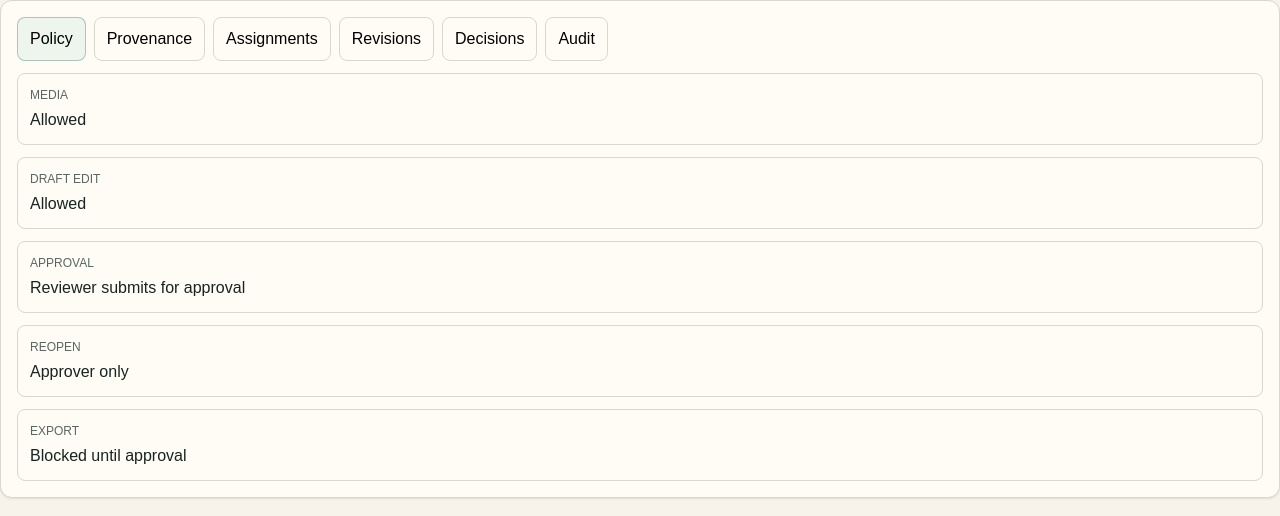
Test: GovernanceDrawer › renders one governance decision row per changes-requested incident
This screenshot has width=1280, height=516.
Click the tab "Decisions": (490,39) x1=442 y1=17 x2=537 y2=61
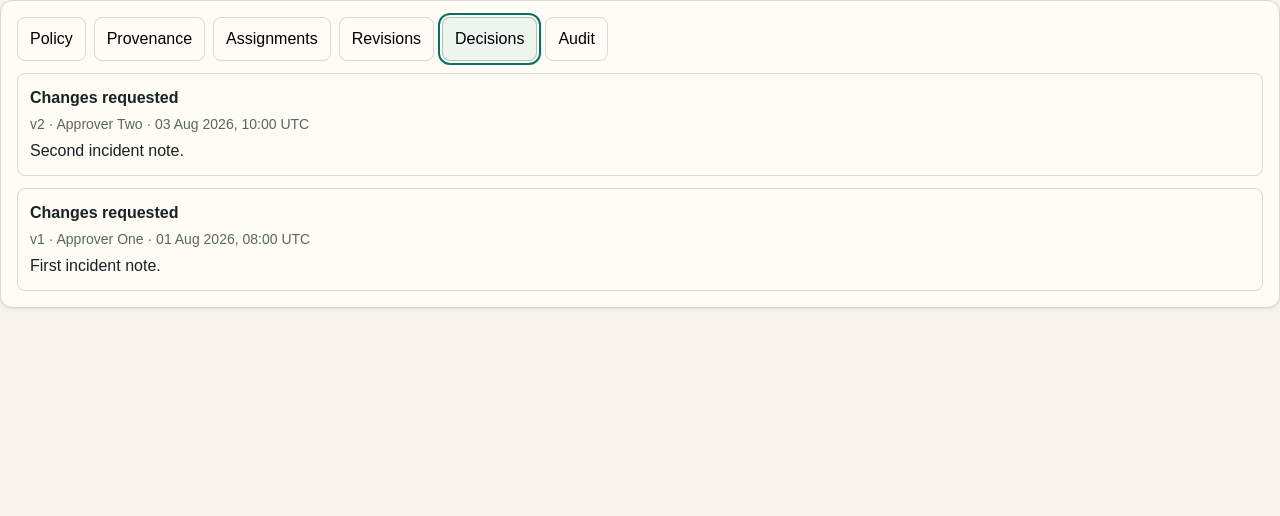
expect the number of list items with class "governance-decision" is 2: met, box x1=17 y1=73 x2=1263 y2=176; x1=17 y1=188 x2=1263 y2=291
expect the list item with class "governance-decision" shows "Second incident note.": met, box x1=30 y1=142 x2=184 y2=159
expect the list item with class "governance-decision" shows "v2": met, box x1=30 y1=116 x2=45 y2=132
